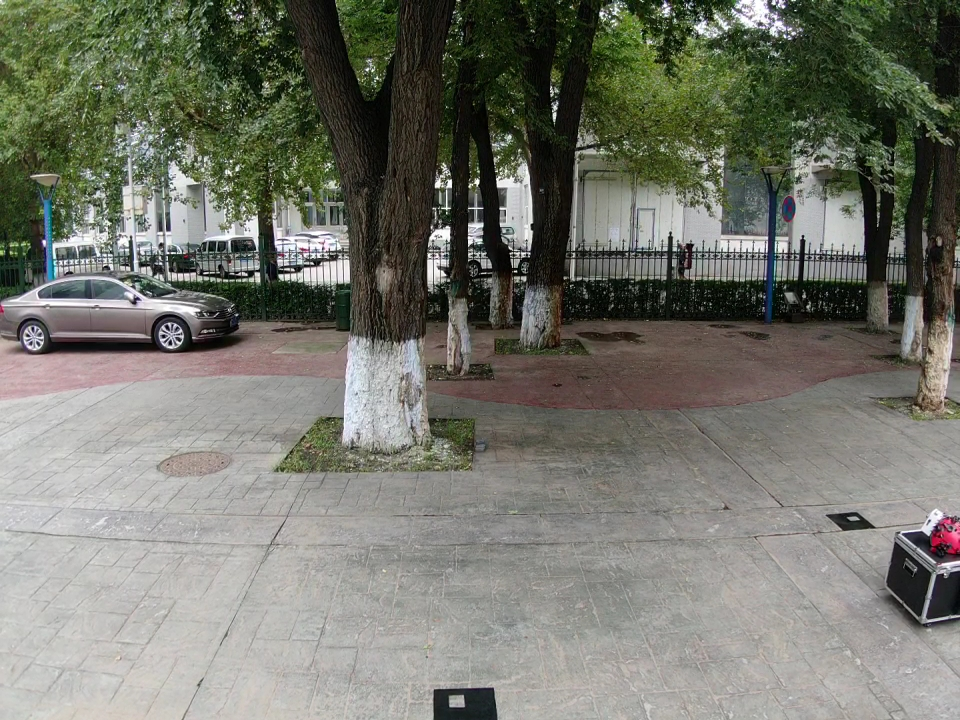box: (889, 531, 960, 624)
helmet: (927, 517, 960, 557)
qrcode: (434, 688, 497, 720), (826, 512, 876, 532)
